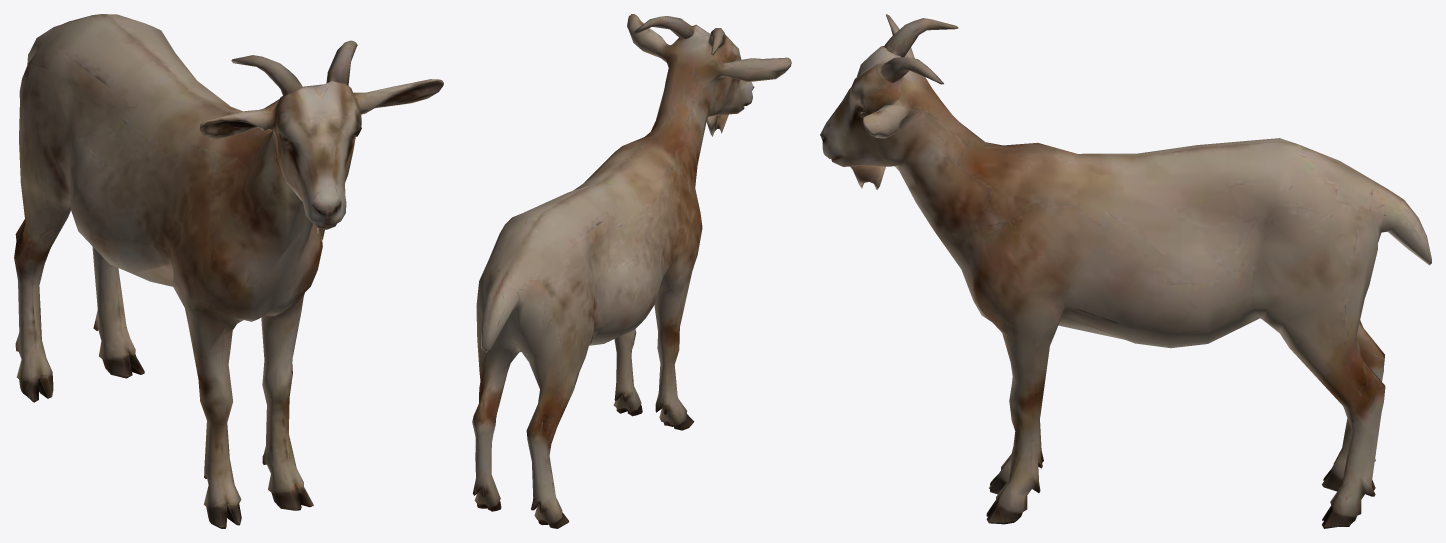
File: cabra_caatinga.glb
3 views of the same model, side by side, from view 1: azimuth 30°, elevation 25°; view 2: azimuth 150°, elevation 25°; view 3: azimuth 270°, elevation 25° (orthographic). The views are drawn at different scales.
Visible parts, largest first — view 1: Caatinga Goat; view 2: Caatinga Goat; view 3: Caatinga Goat.
Part boxes in pixels (x1,y1,x2,y2): Caatinga Goat: (14,14,443,528); Caatinga Goat: (472,14,791,528); Caatinga Goat: (820,14,1431,528).
Bounding box in the file's own units: 0.4082 × 0.8418 × 0.998.
Materials: 1 (1 with a texture image).
